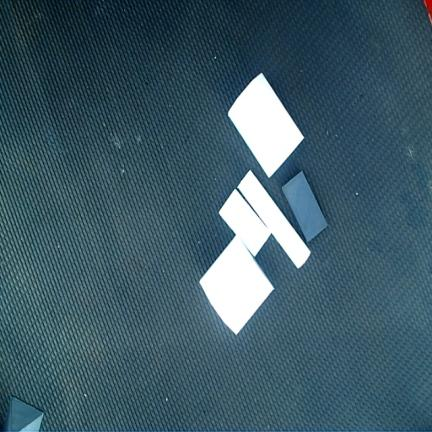Cilindro: (238, 169, 312, 269)
Paralelepipedo: (219, 188, 271, 257), (282, 170, 329, 243)
Piramide: (1, 397, 44, 431)
Prisma_hexagonal: (228, 72, 305, 179), (200, 235, 275, 336)
